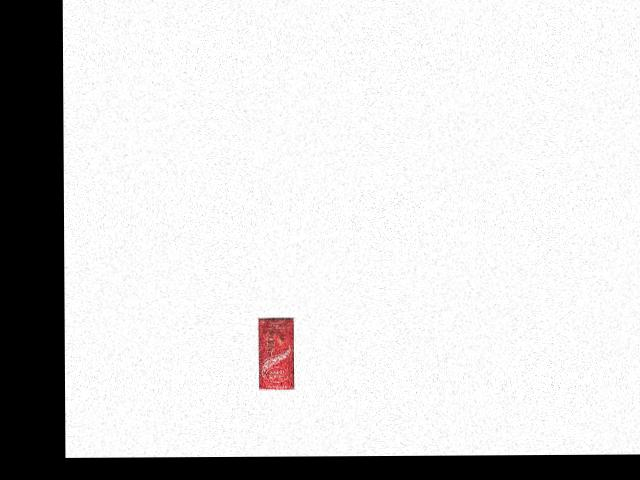chocolate: (255, 312, 295, 391)
